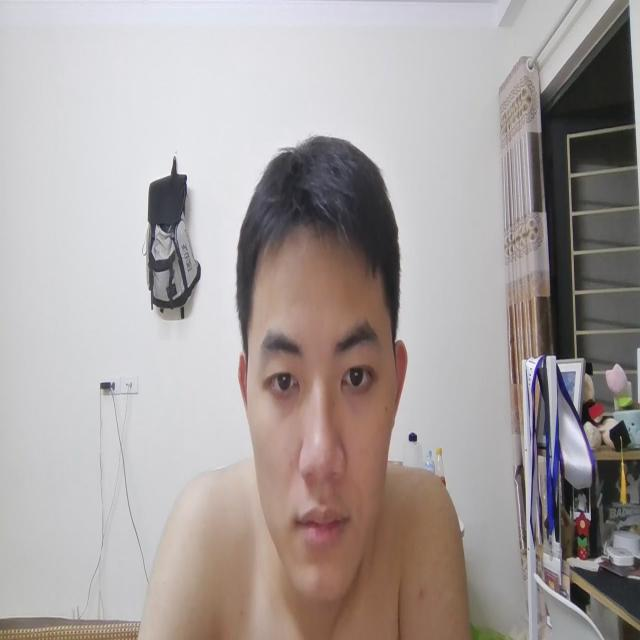student: (152, 126, 469, 640)
